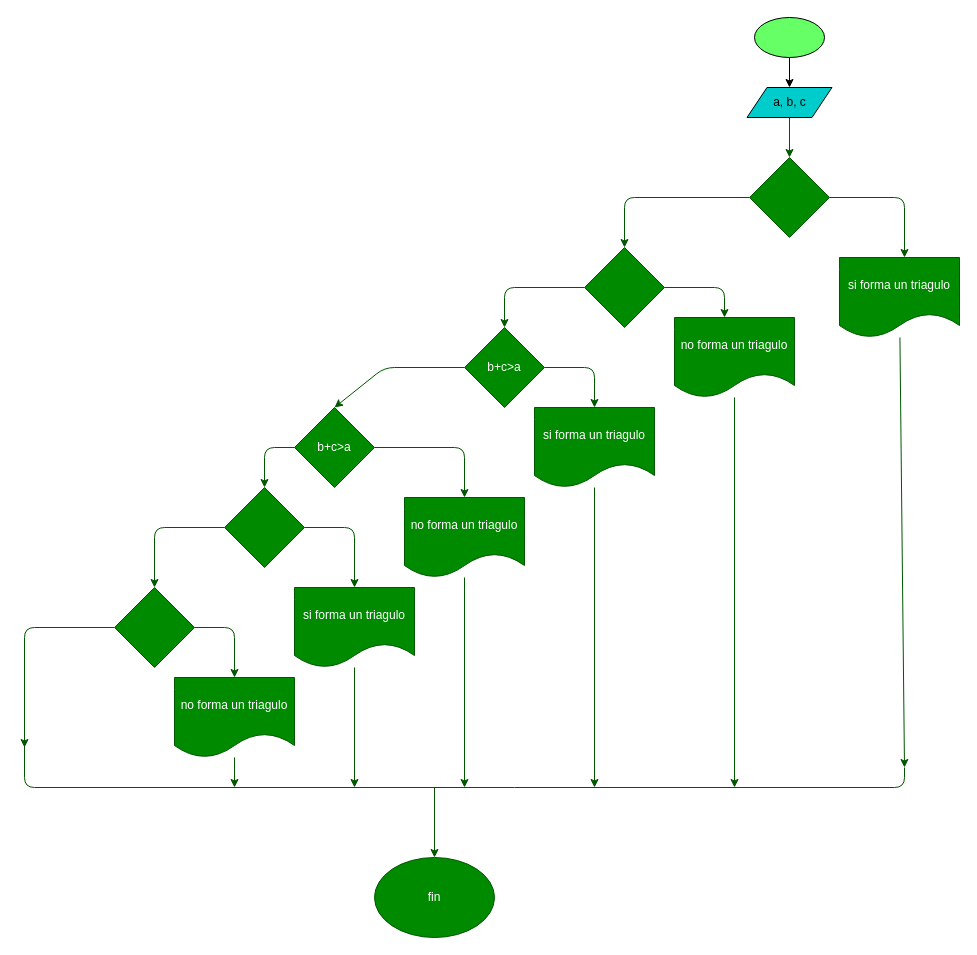
Some shapes in this 977 by 955 pixel diagram are drawn without their labels. Each missing label, with the centre of its shape:
a+b >c: the point at 789,197
a+b<c: the point at 624,287
a+c<b: the point at 154,627
a+c>b: the point at 264,527
INICIO: the point at 789,37
